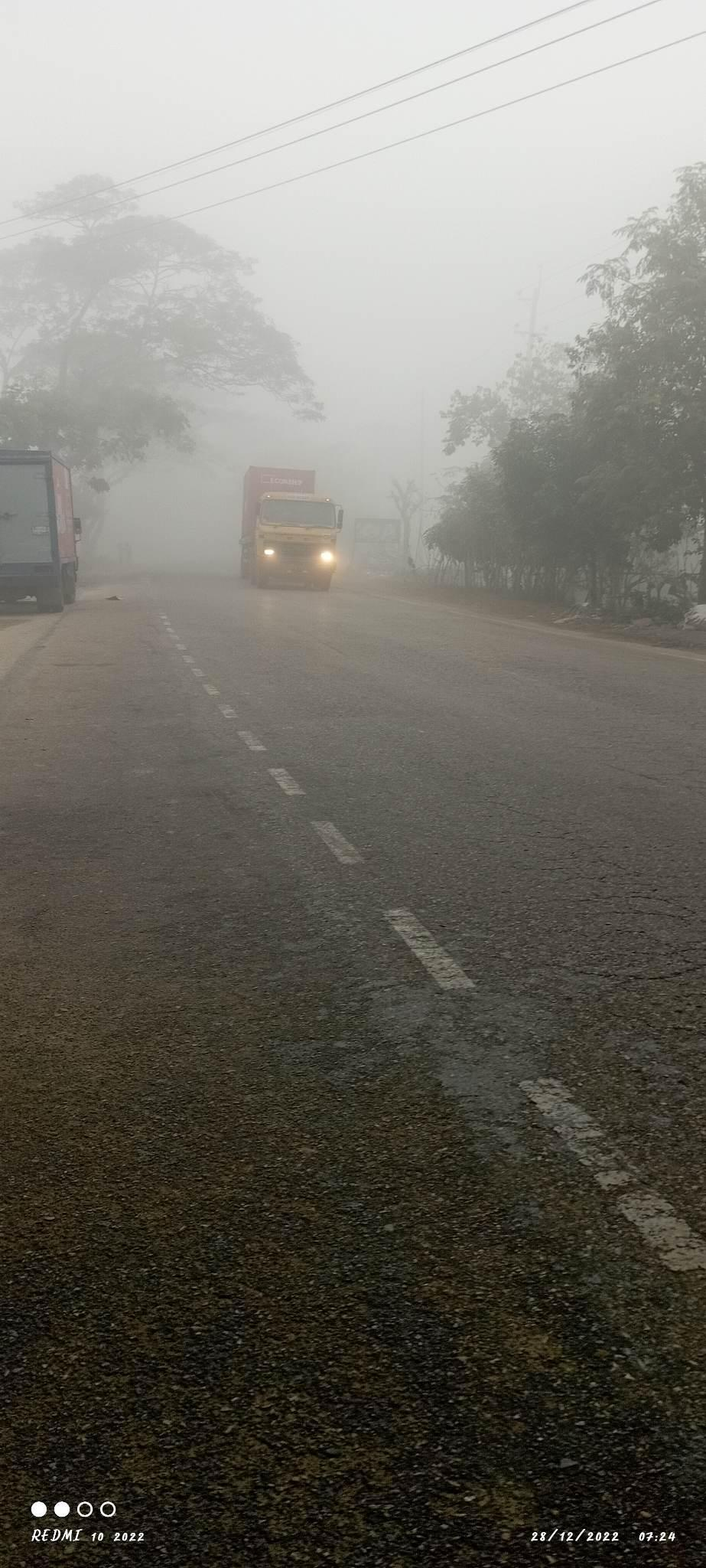Truck: (221, 448, 367, 632), (1, 432, 96, 626)
